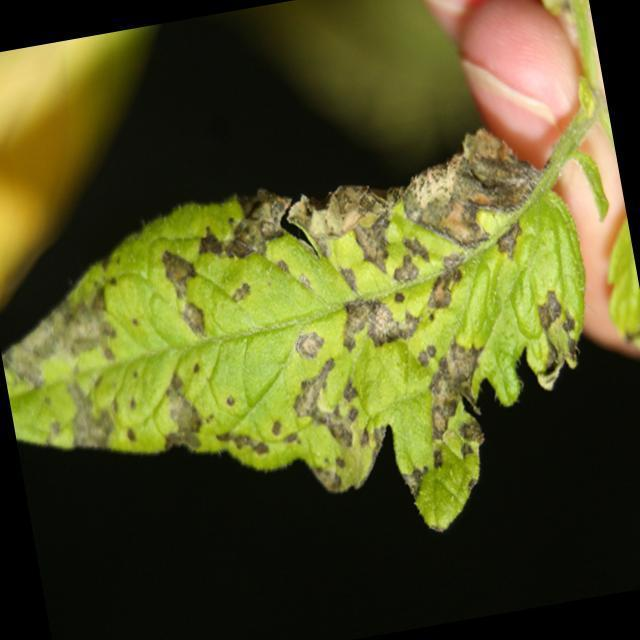Bacterial Spot: (0, 188, 613, 545)
